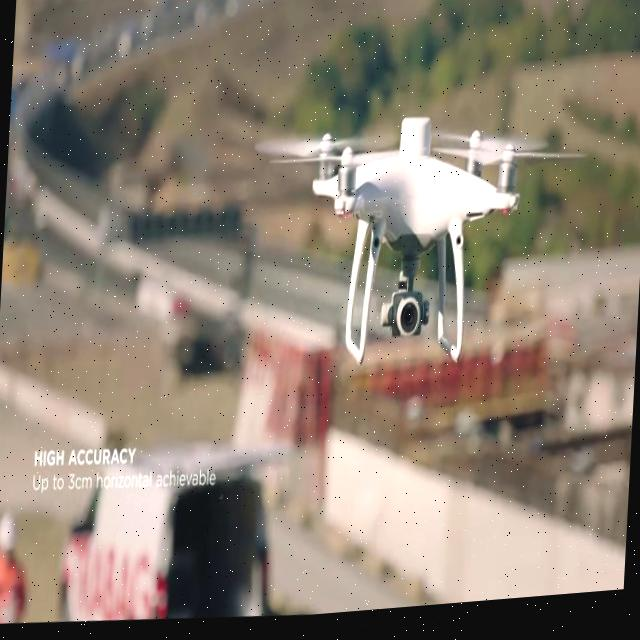drone: (241, 99, 591, 397)
